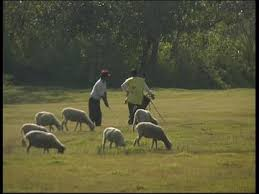sheep: (133, 122, 173, 151), (27, 128, 66, 155), (59, 106, 99, 132), (100, 125, 129, 148), (35, 110, 65, 130), (132, 106, 161, 126)
